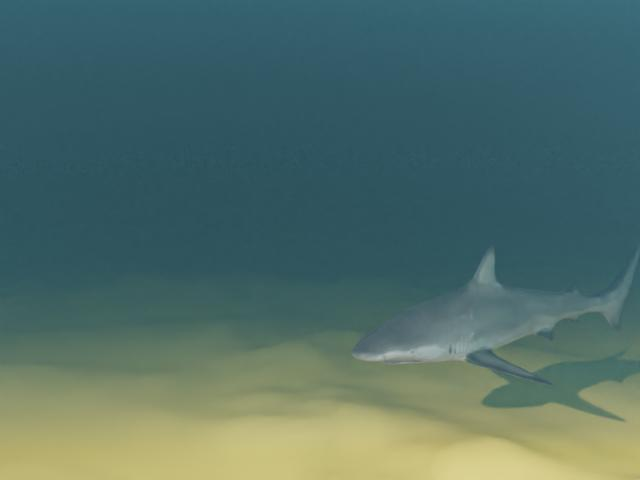Carribean Shark.001: (351, 237, 640, 385)
